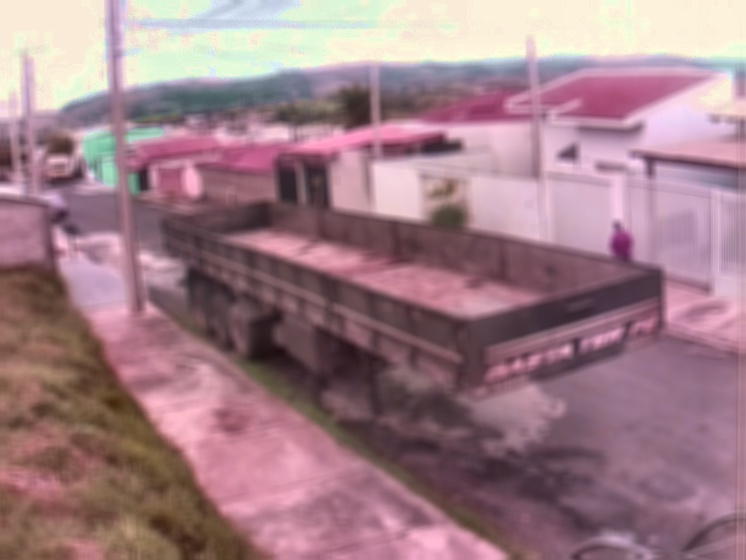person: (606, 218, 635, 264)
